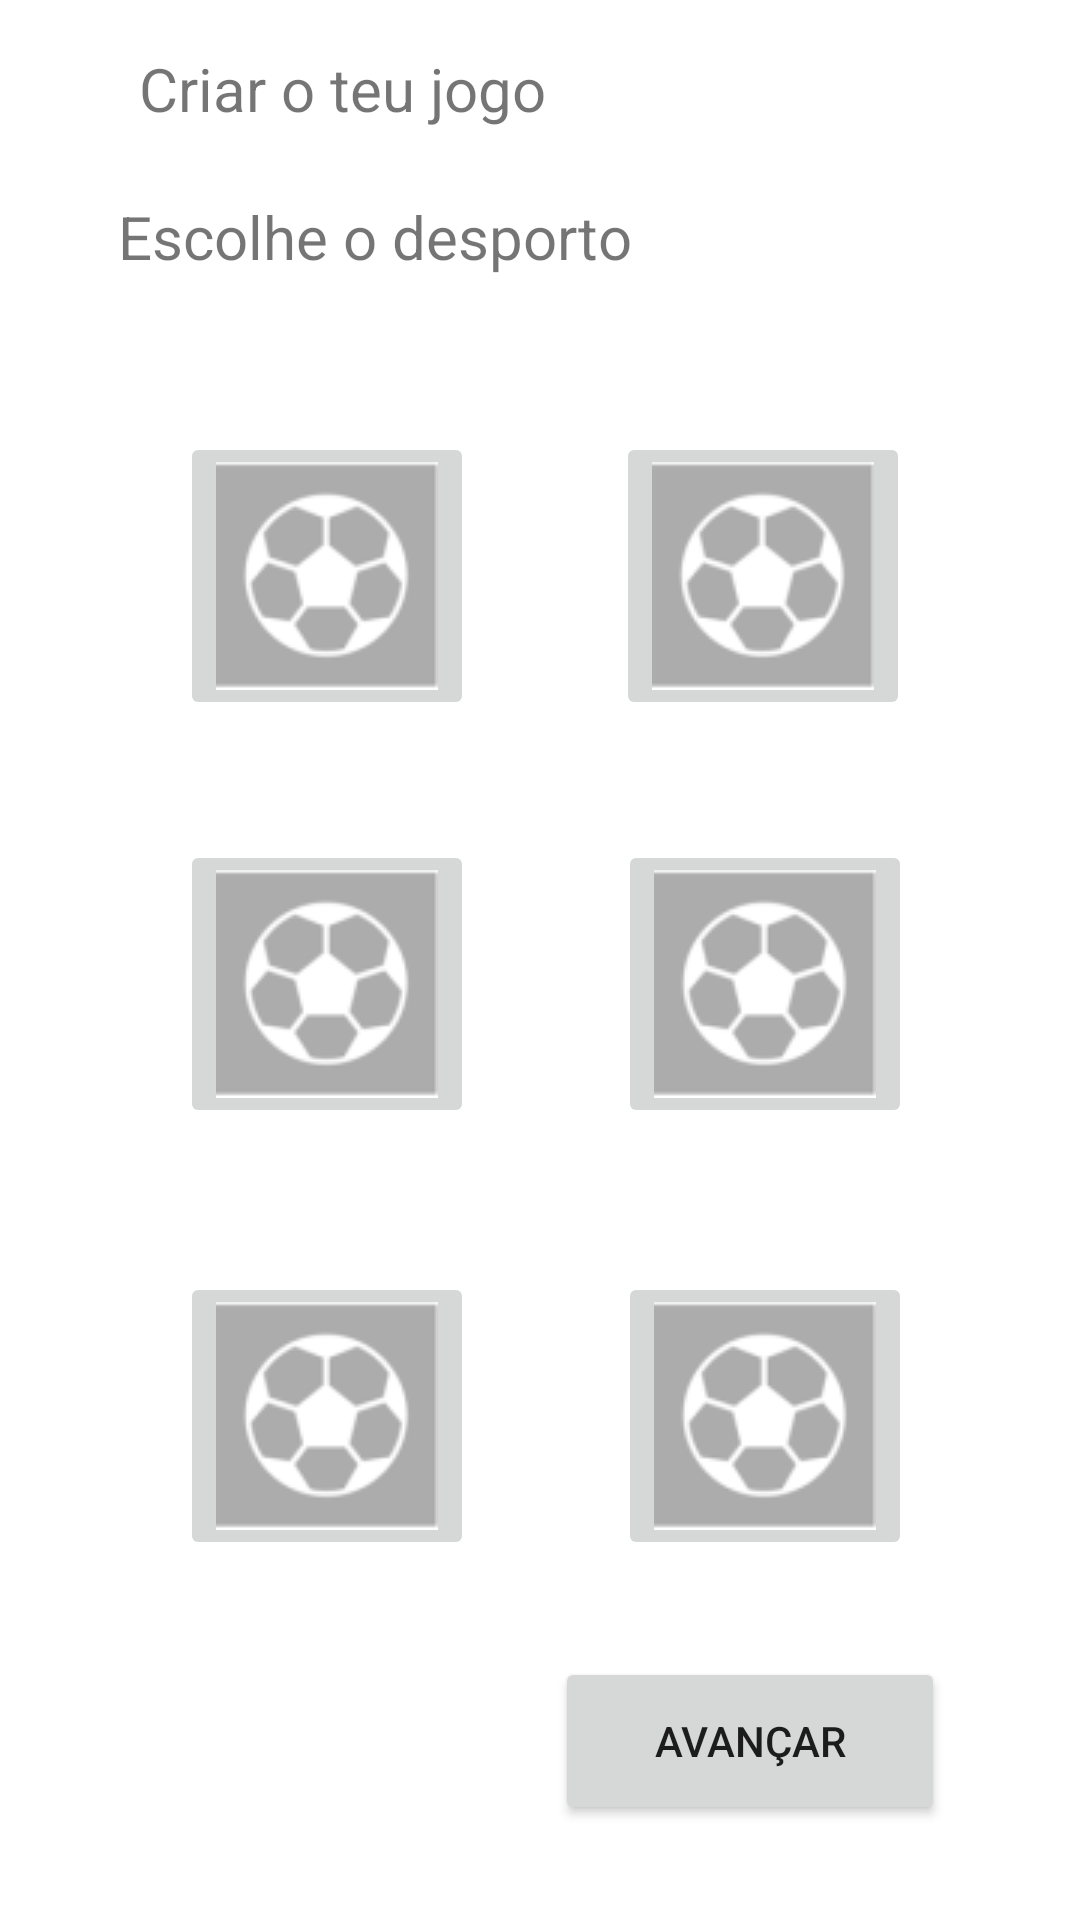

Named icons in this screenshot (1080px x 1920px) and their centers, (x=x, y=y):
futebol: (x=327, y=576), (x=763, y=576), (x=327, y=984), (x=765, y=984), (x=327, y=1416), (x=765, y=1416)
